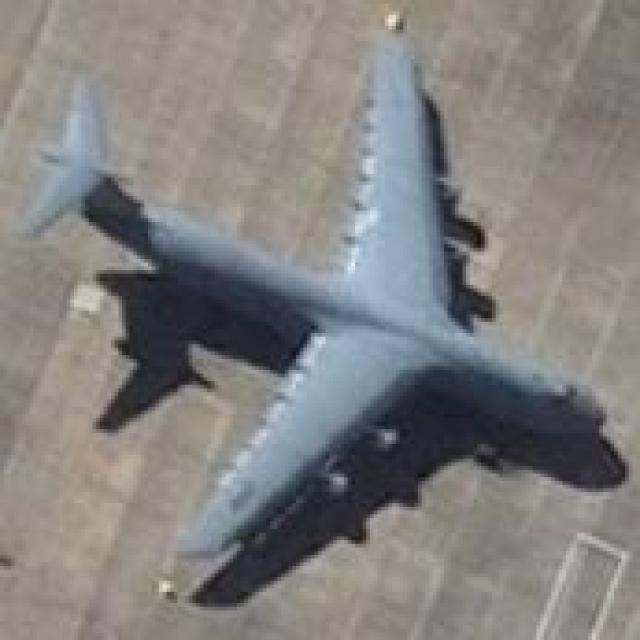C-5_TopDown: (14, 30, 626, 612)
